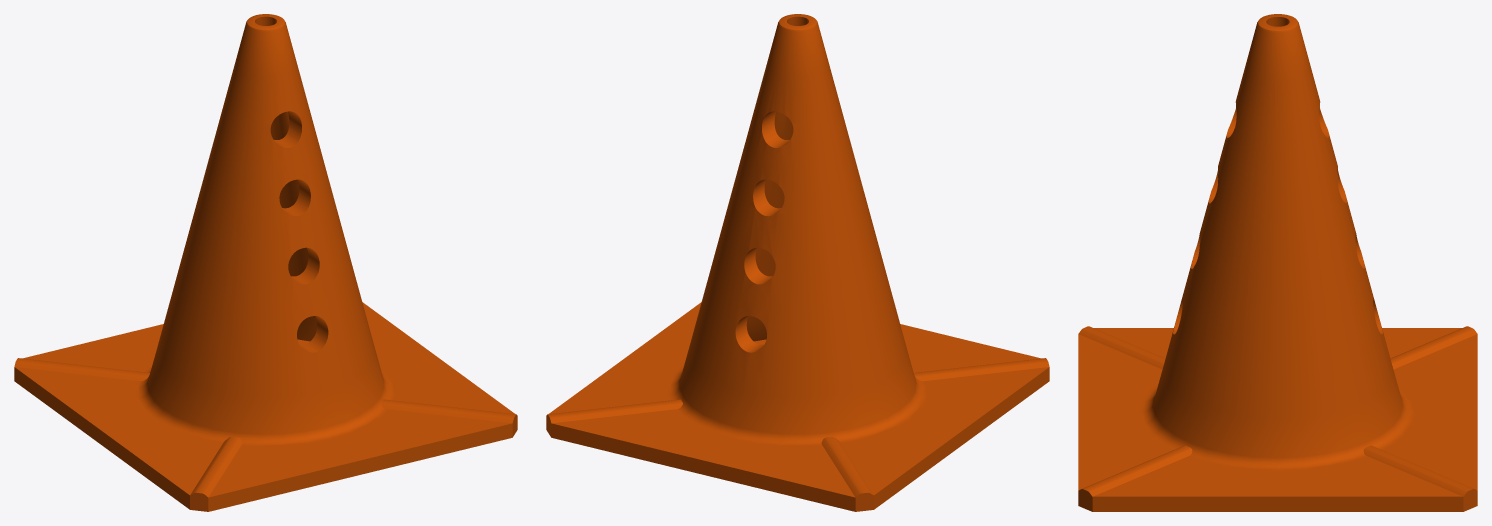
Rendered from Cone_Single.fbx.
3 views of the same model, side by side, from view 1: azimuth 30°, elevation 25°; view 2: azimuth 150°, elevation 25°; view 3: azimuth 270°, elevation 25° (orthographic). The views are drawn at different scales.
Parts seen in each view (by area): view 1: Cone.001; view 2: Cone.001; view 3: Cone.001.
Boxes of the visible parts, bbox=[...] form: Cone.001: bbox=[14, 14, 517, 511]; Cone.001: bbox=[546, 14, 1049, 511]; Cone.001: bbox=[1078, 14, 1477, 511].
Bounding box in the file's own units: 270 × 303 × 270.
